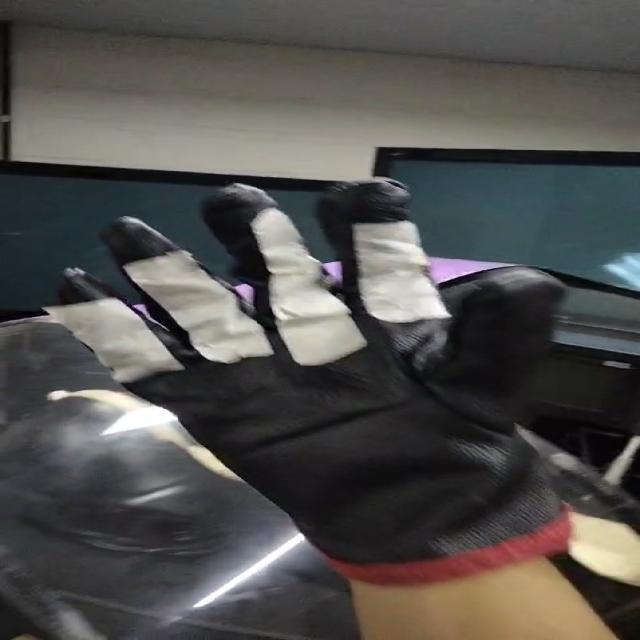Gloves: (54, 175, 589, 565)
